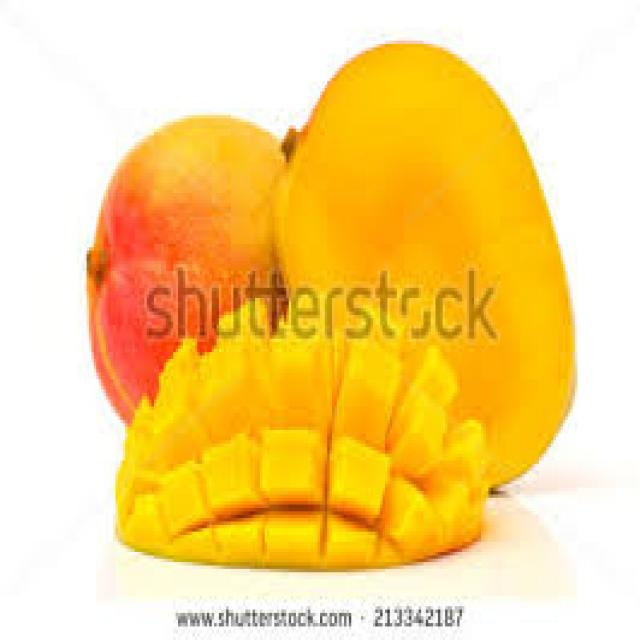organic waste: (282, 37, 578, 501), (118, 294, 491, 569), (82, 115, 286, 440)
